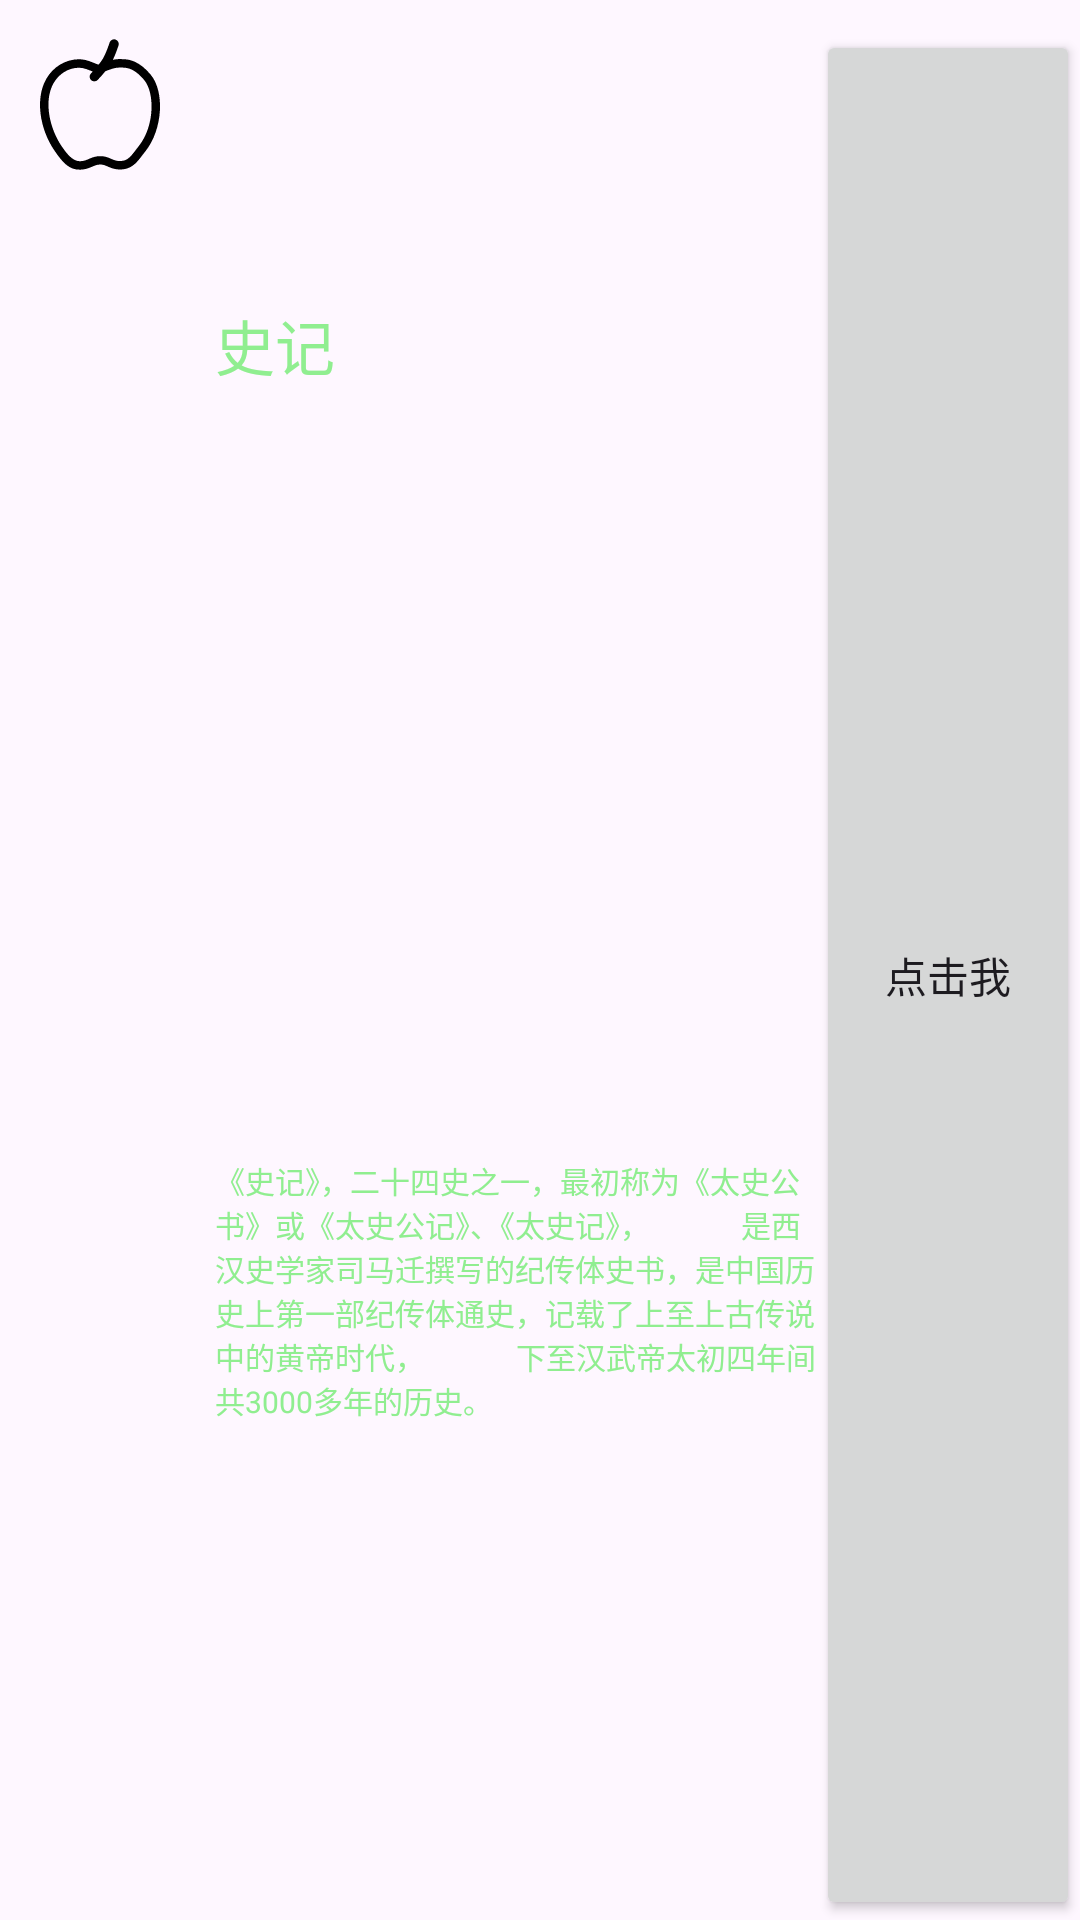

Icons on this 1080*1920 Android screen, each with the point to tap as [x,y]:
food apple: [100,104]
